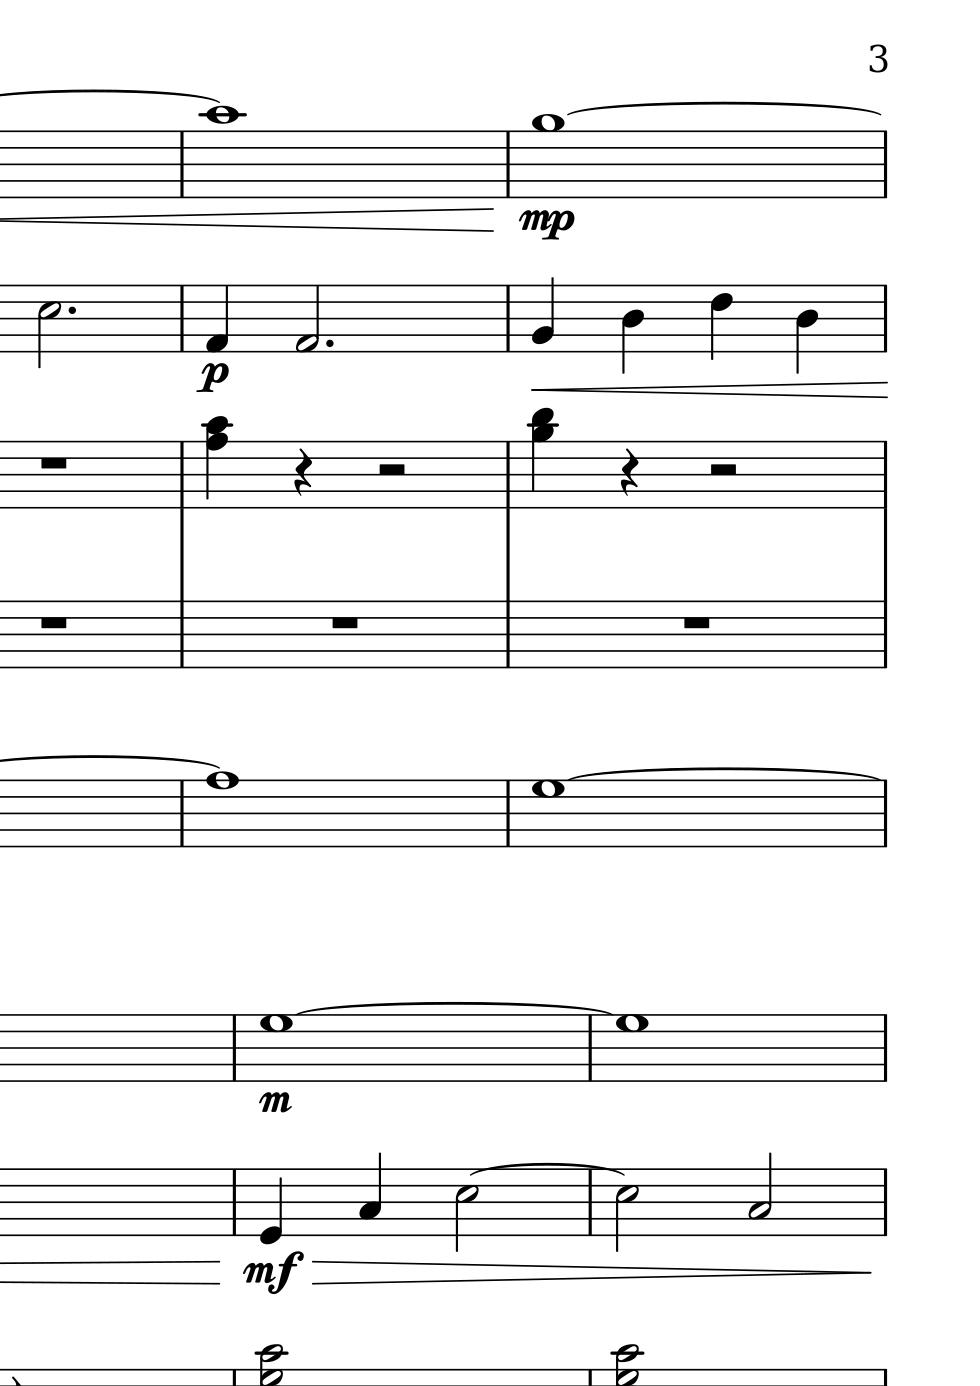1_10: (202, 104, 241, 200)
1_7: (531, 778, 567, 849), (614, 1013, 649, 1084), (258, 1014, 294, 1082)
1_8: (203, 770, 240, 849)
1_9: (530, 111, 567, 199)
2_1: (294, 283, 321, 354)
2_3: (746, 1151, 774, 1239)
2_5: (453, 1166, 482, 1255), (35, 283, 63, 370), (612, 1166, 638, 1255)
3: (868, 42, 888, 74)
4_0: (258, 1166, 284, 1245)
4_1: (204, 283, 231, 354)
4_2: (531, 276, 557, 355)
4_3: (357, 1151, 383, 1236)
4_4: (792, 282, 820, 374), (618, 283, 645, 375)
4_6: (707, 283, 734, 364)
4_8_10: (199, 414, 234, 510)
4_9_11: (526, 406, 558, 511)
Crescendo_hairpin: (1, 206, 495, 233), (530, 380, 889, 397)
Diminuendo_hairpin: (312, 1259, 875, 1284)
Rests1: (679, 612, 714, 632), (36, 612, 71, 631), (328, 613, 362, 632), (36, 453, 71, 471)
Rests2: (372, 461, 410, 481), (703, 461, 741, 481)
Rests4: (290, 448, 314, 499), (617, 448, 641, 499)
Single_barline: (225, 1169, 244, 1236), (875, 1169, 894, 1235), (225, 1014, 244, 1080), (580, 1016, 599, 1081), (581, 1172, 600, 1236), (498, 131, 517, 198), (498, 780, 517, 847), (498, 602, 517, 668), (173, 442, 191, 507), (174, 285, 191, 352), (173, 601, 190, 668), (876, 601, 893, 668), (173, 780, 190, 847), (876, 1015, 893, 1081), (500, 286, 517, 351), (500, 442, 517, 506), (877, 780, 893, 847), (174, 131, 190, 197), (877, 285, 893, 351), (877, 442, 892, 508), (878, 131, 892, 198)
Slur: (566, 101, 883, 119), (298, 999, 616, 1016), (573, 766, 883, 779), (470, 1162, 622, 1176)
dot: (64, 304, 78, 318), (322, 336, 336, 350)
mf: (243, 1250, 307, 1295)
mp: (517, 207, 576, 241), (258, 1090, 291, 1113)
p: (195, 359, 230, 394)
